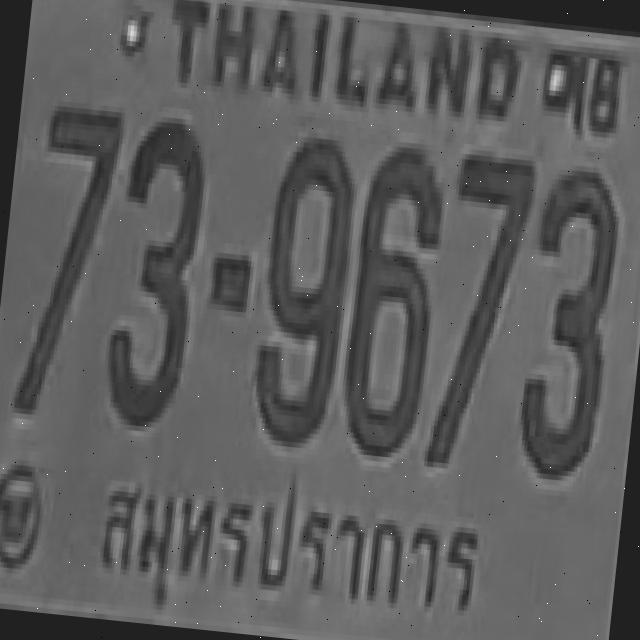3: (99, 113, 210, 430), (512, 165, 623, 481)
6: (336, 138, 448, 460)
7: (423, 147, 536, 474), (12, 99, 124, 421)
9: (248, 132, 358, 448)
SamutPrakan: (79, 450, 496, 640)
